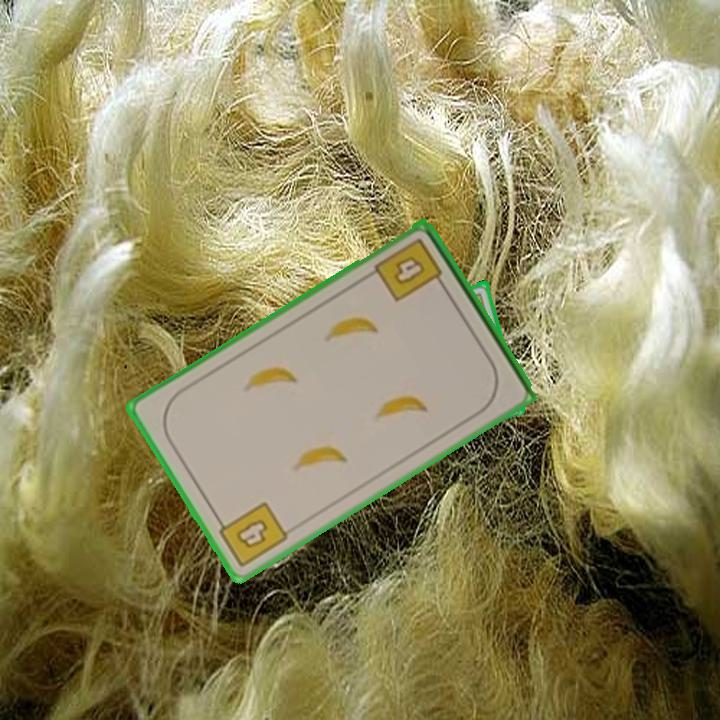4b: (211, 498, 291, 571), (371, 234, 449, 305)
